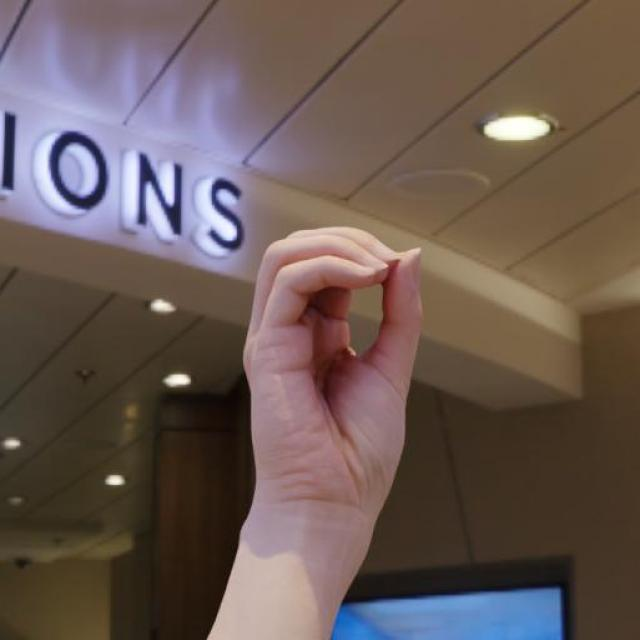O: (232, 213, 437, 552)
